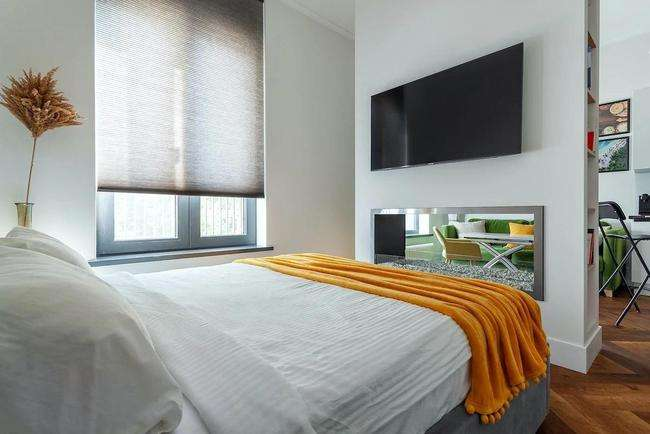床: (1, 250, 572, 432)
枕头: (3, 230, 171, 432)
